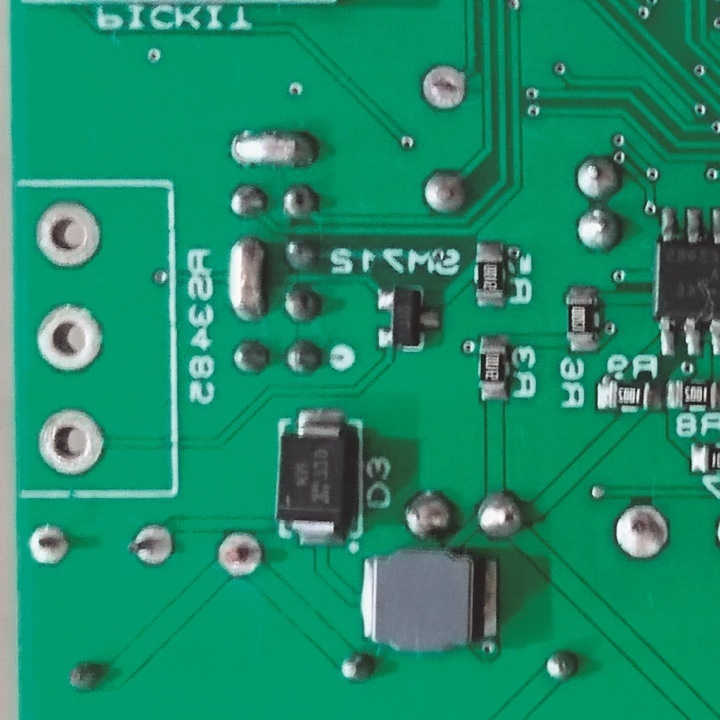F: (30, 198, 106, 270), (34, 303, 107, 376), (35, 407, 108, 478), (610, 502, 672, 561), (413, 63, 473, 114), (213, 526, 267, 577), (127, 520, 179, 569), (26, 521, 73, 569)
P: (224, 235, 272, 323), (225, 128, 320, 171)
